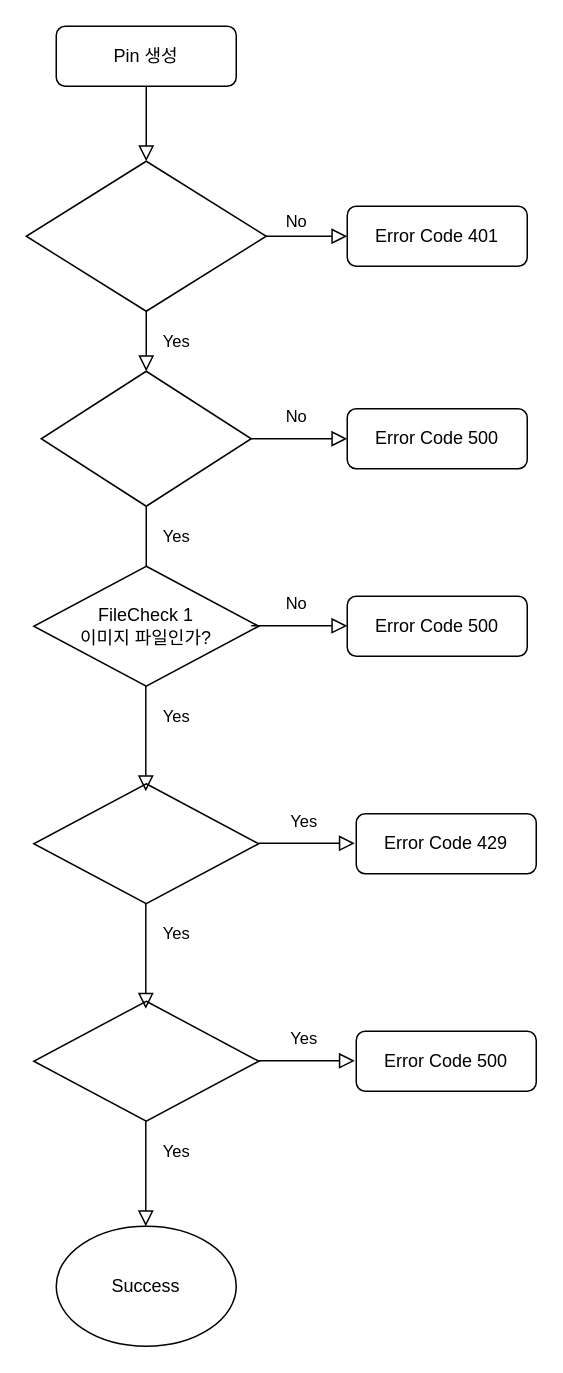
The diagram is 563 pixels wide and 1373 high, and some of its shapes have lost their labels. The shapes that lost their labels are listed below. From the top down, each one's box as (x1, y1, x2, y2) in pixels, then its label:
(25, 160, 266, 311): 로그인을 하였는가?
(40, 370, 251, 506): Form 조건을 다 채웠는가
(32, 782, 259, 904): FileCheck 1 파일이 너무 큰가
(32, 1000, 259, 1121): FileCheck 1 이미지 사이즈가 너무 작은가
